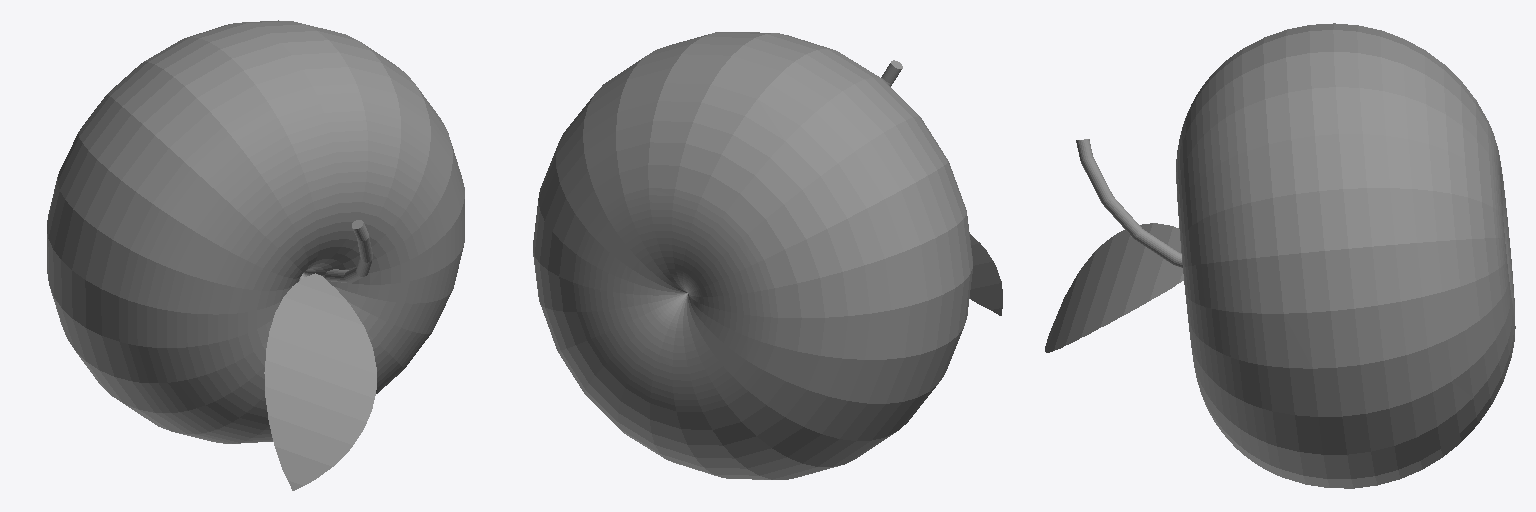
robot.urdf — cube.urdf:
<?xml version="0.0" ?> 
<robot name="cube.urdf"> 
<link name="legobrick"> 
<contact> 
<lateral_friction value="1.0"/>
<rolling_friction value="0.0"/>
<contact_cfm value="0.0"/>
<contact_erp value="1.0"/>
</contact> 
<inertial> 
<origin rpy="0 0 0" xyz="0.0 0.0 0.0"/> 
<mass value="0.1"/> 
<inertia ixx="1" ixy="0" ixz="0" iyy="1" iyz="0" izz="1"/> 
</inertial> 
<visual> 
<origin rpy="1.570796 0 0" xyz="2.41954094940014e-05 -0.0055304723004696655 -0.0005383122587376122"/> 
<geometry> 
<mesh filename="420f6d4f07c3109bee5e7ed304cc3a4c.obj" scale="1 1 1"/> 
</geometry> 
<material name="yellow"> 
<color rgba="0.6 0.6 0.6 1"/> 
</material> 
</visual> 
<collision> 
<origin rpy="1.570796 0 0" xyz="2.41954094940014e-05 -0.0055304723004696655 -0.0005383122587376122"/> 
<geometry> 
<mesh filename="420f6d4f07c3109bee5e7ed304cc3a4c_col.obj" scale="1 1 1"/> 
</geometry> 
</collision> 
</link> 
</robot>

--- What the picture shows (computed from the rendered views, not written in the file) ---
The picture shows the robot from 3 angles, left to right: view 1: azimuth 30°, elevation 25°; view 2: azimuth 150°, elevation 25°; view 3: azimuth 270°, elevation 25°; orthographic projection.
Robot: cube.urdf — 1 links, 0 joints (none); root link legobrick; default pose: all joints at 0.
Visible links, largest first — view 1: legobrick; view 2: legobrick; view 3: legobrick.
Link boxes in pixels (x1,y1,x2,y2): legobrick: (47, 20, 464, 490); legobrick: (533, 32, 1002, 479); legobrick: (1045, 23, 1515, 488).
Bounding box of the posed robot: 0.045 × 0.0456 × 0.0449 m (x, y, z).
1 mesh visuals loaded from 1 distinct referenced files (1 OBJ).